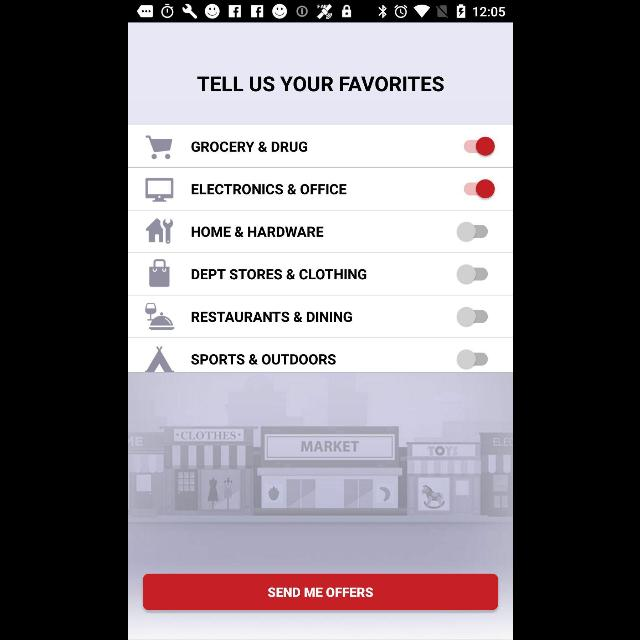icon: (145, 218, 173, 244), (144, 136, 172, 160), (148, 258, 170, 288)
image: (144, 302, 174, 330), (143, 346, 175, 372), (144, 178, 174, 202)
switch: (455, 306, 487, 328), (455, 264, 487, 286), (464, 178, 494, 200), (456, 350, 488, 370), (455, 222, 487, 242), (462, 138, 494, 156)
text: (196, 76, 444, 92), (190, 268, 366, 280), (190, 183, 346, 194), (190, 312, 352, 322), (191, 226, 323, 238), (190, 354, 336, 364), (190, 142, 308, 152)
textbutton: (142, 574, 498, 610)
uppertaskbar: (128, 1, 512, 23)
